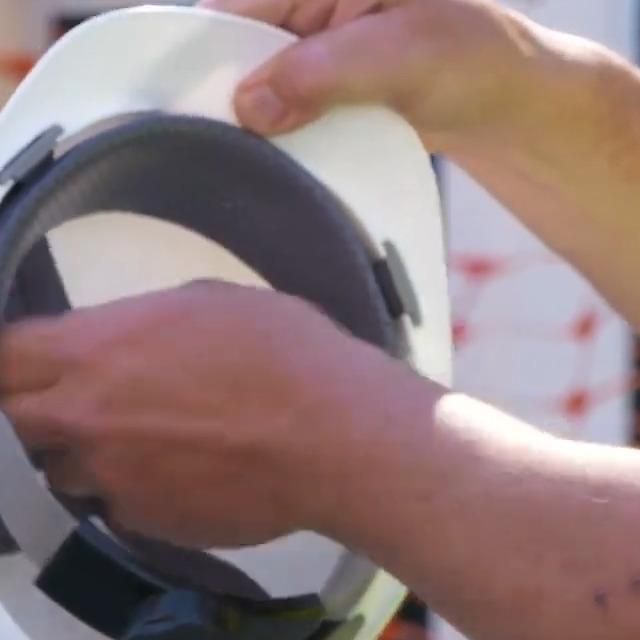Hardhat: (0, 2, 447, 640)
Person: (0, 0, 640, 640)
